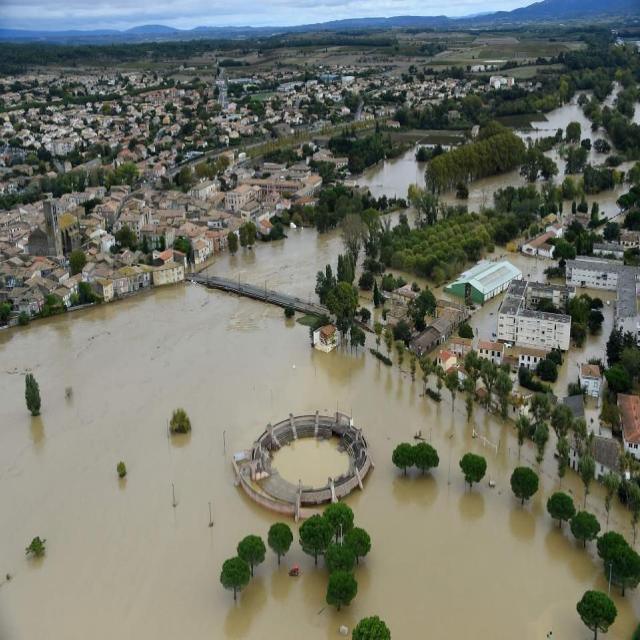flooded_areas: (156, 142, 635, 639)
